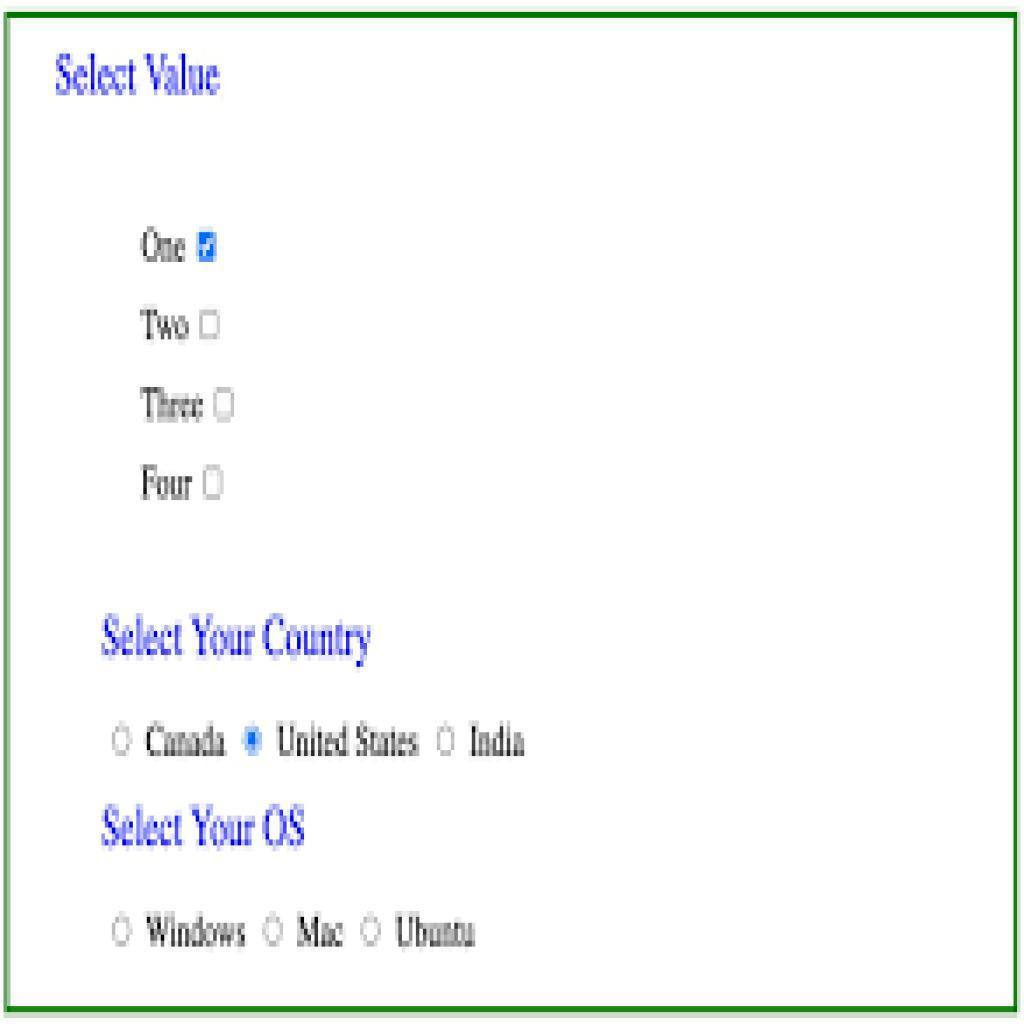checkbox: (203, 466, 225, 502), (215, 388, 237, 423), (197, 230, 218, 262), (200, 310, 221, 338)
radio: (239, 719, 268, 761), (108, 909, 137, 949), (110, 719, 137, 759), (358, 907, 383, 950), (263, 908, 287, 950), (434, 721, 459, 760)
